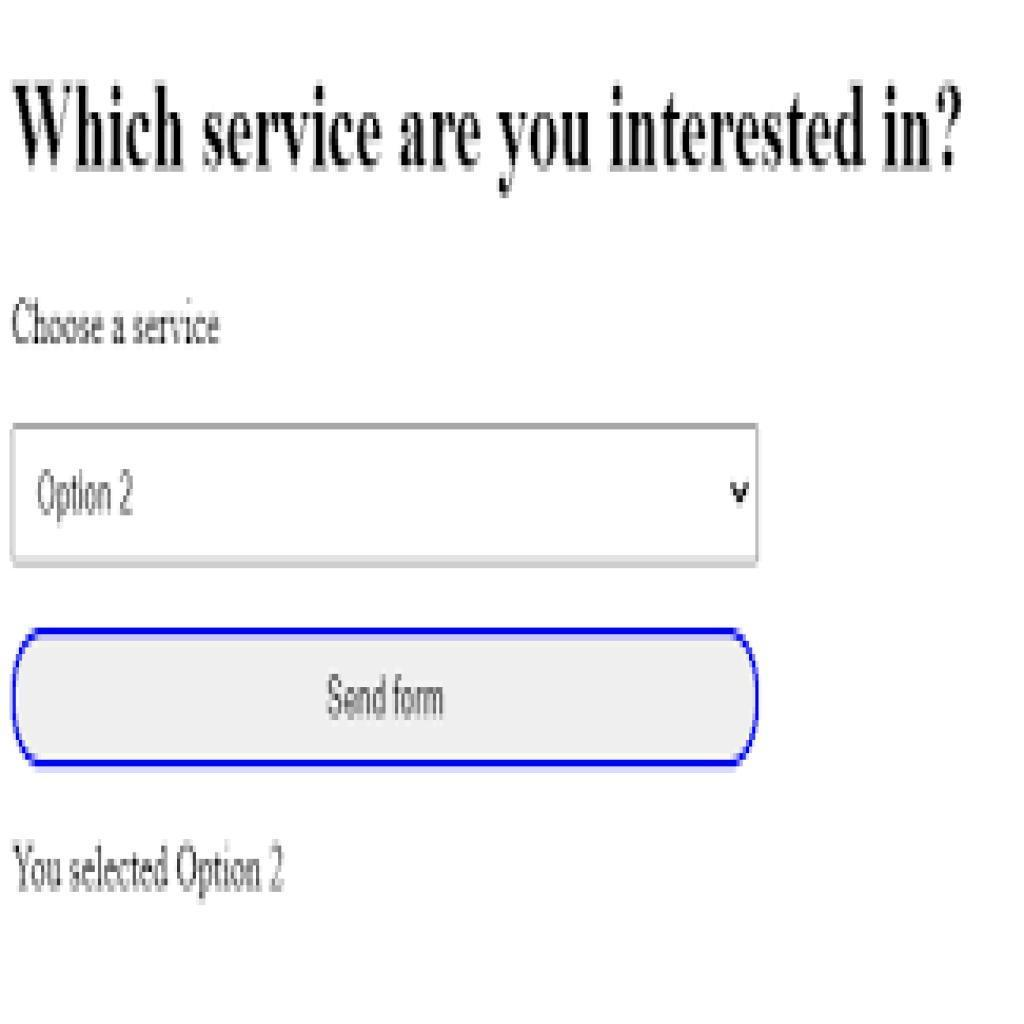button: (13, 627, 763, 769)
dropdown: (10, 423, 755, 562)
label: (11, 80, 968, 205), (11, 831, 297, 905), (10, 298, 234, 357)
